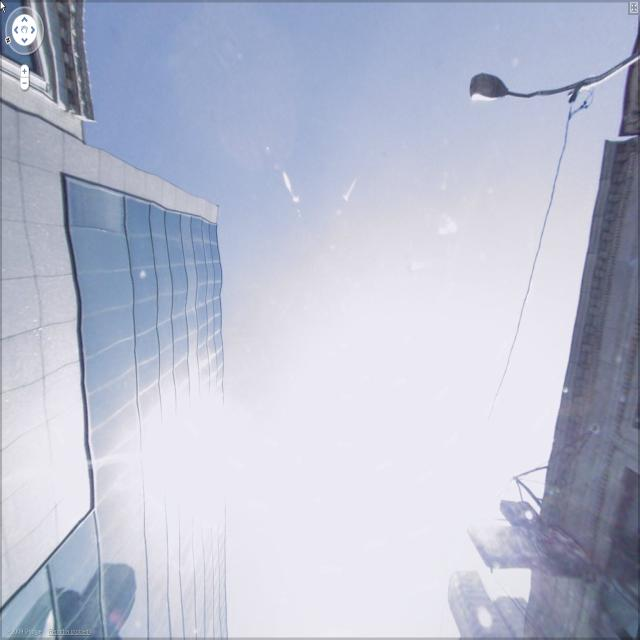b_1: (2, 102, 236, 640), (484, 132, 639, 640), (0, 3, 110, 121)
